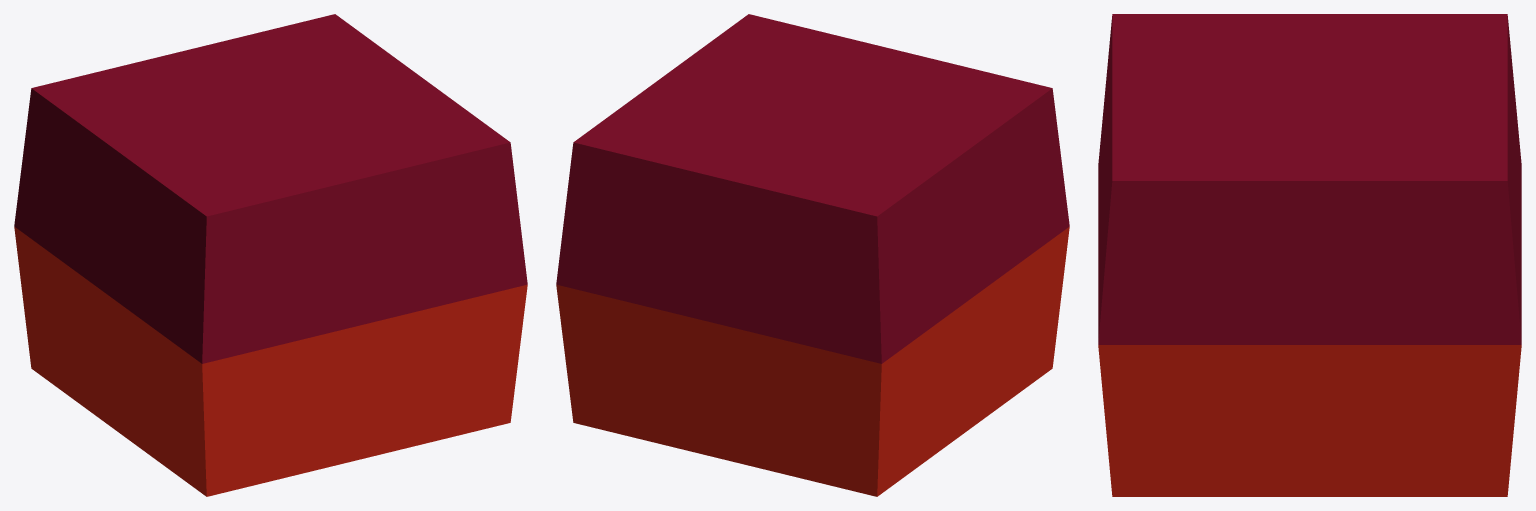
File: enemy_swallower_c.gltf
3 renders of one model, left to right at view 1: azimuth 30°, elevation 25°; view 2: azimuth 150°, elevation 25°; view 3: azimuth 270°, elevation 25°, orthographic. The views are drawn at different scales.
Parts seen in each view (by area): view 1: enemy_swallower_c; view 2: enemy_swallower_c; view 3: enemy_swallower_c.
Boxes of the visible parts, x1,y1,x2,y2 form: enemy_swallower_c: (14, 14, 527, 496); enemy_swallower_c: (556, 14, 1069, 496); enemy_swallower_c: (1098, 14, 1521, 496).
Bounding box in the file's own units: 4.86 × 4 × 4.86.
